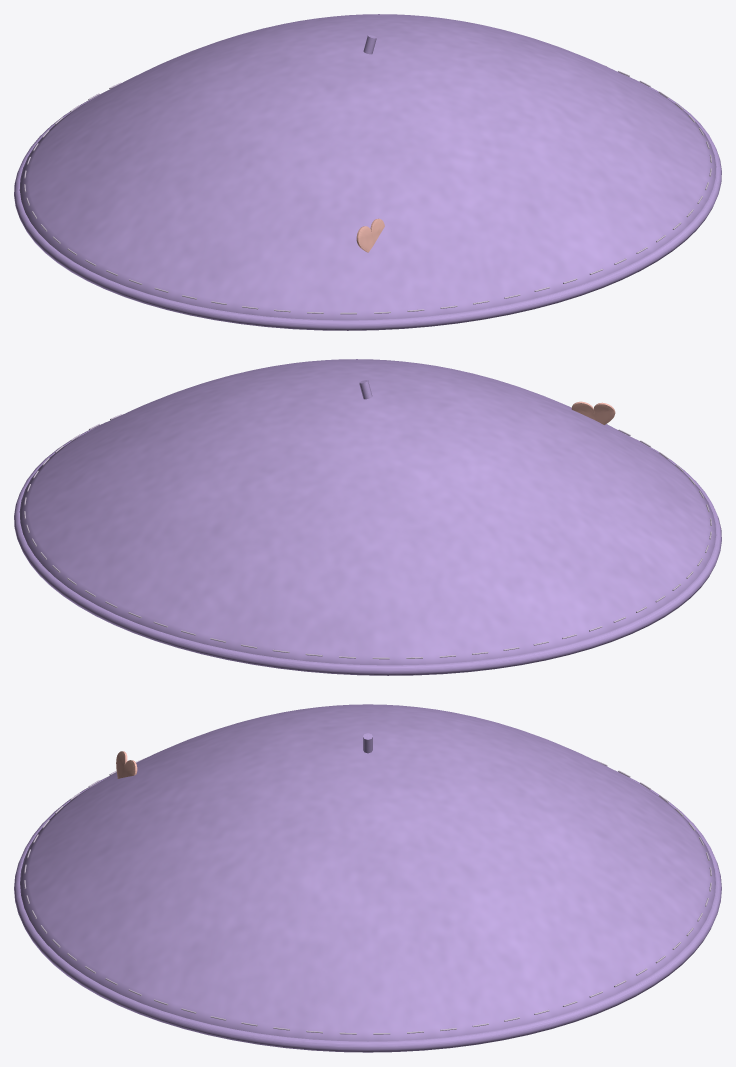
File: experimental_beret_chic_pig_v8.glb
3 views of the same model, one above another, from view 1: azimuth 30°, elevation 25°; view 2: azimuth 150°, elevation 25°; view 3: azimuth 270°, elevation 25° (orthographic). The views are drawn at different scales.
Parts seen in each view (by area): view 1: Boina pequeña · fieltro con forro; view 2: Boina pequeña · fieltro con forro; view 3: Boina pequeña · fieltro con forro.
Part boxes in pixels (x1=…): Boina pequeña · fieltro con forro: x1=14, y1=14, x2=721, y2=330; Boina pequeña · fieltro con forro: x1=14, y1=359, x2=721, y2=675; Boina pequeña · fieltro con forro: x1=14, y1=704, x2=721, y2=1052.
Bounding box in the file's own units: 0.5716 × 0.1333 × 0.5309.
Materials: 3 (2 with a texture image).
